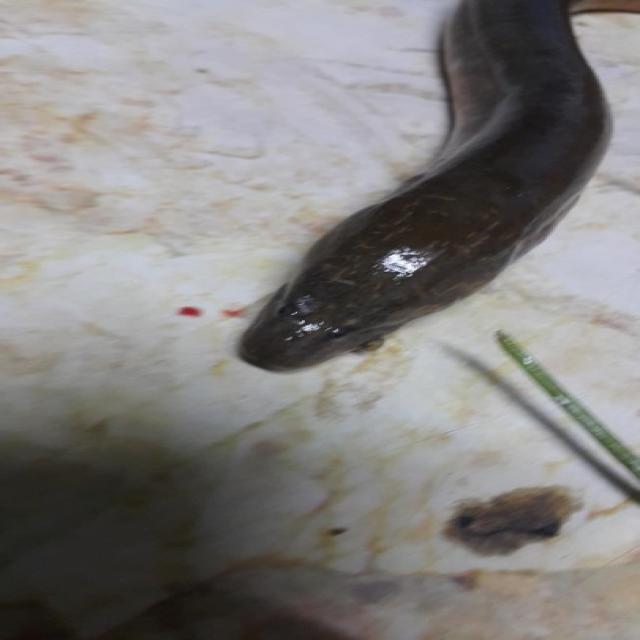Freshwater-Eel: (215, 0, 640, 405)
